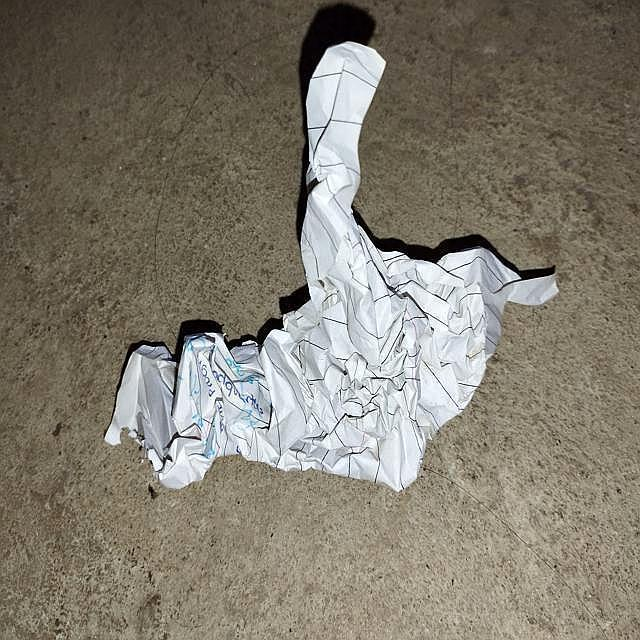Biodegradable: (109, 41, 543, 497)
